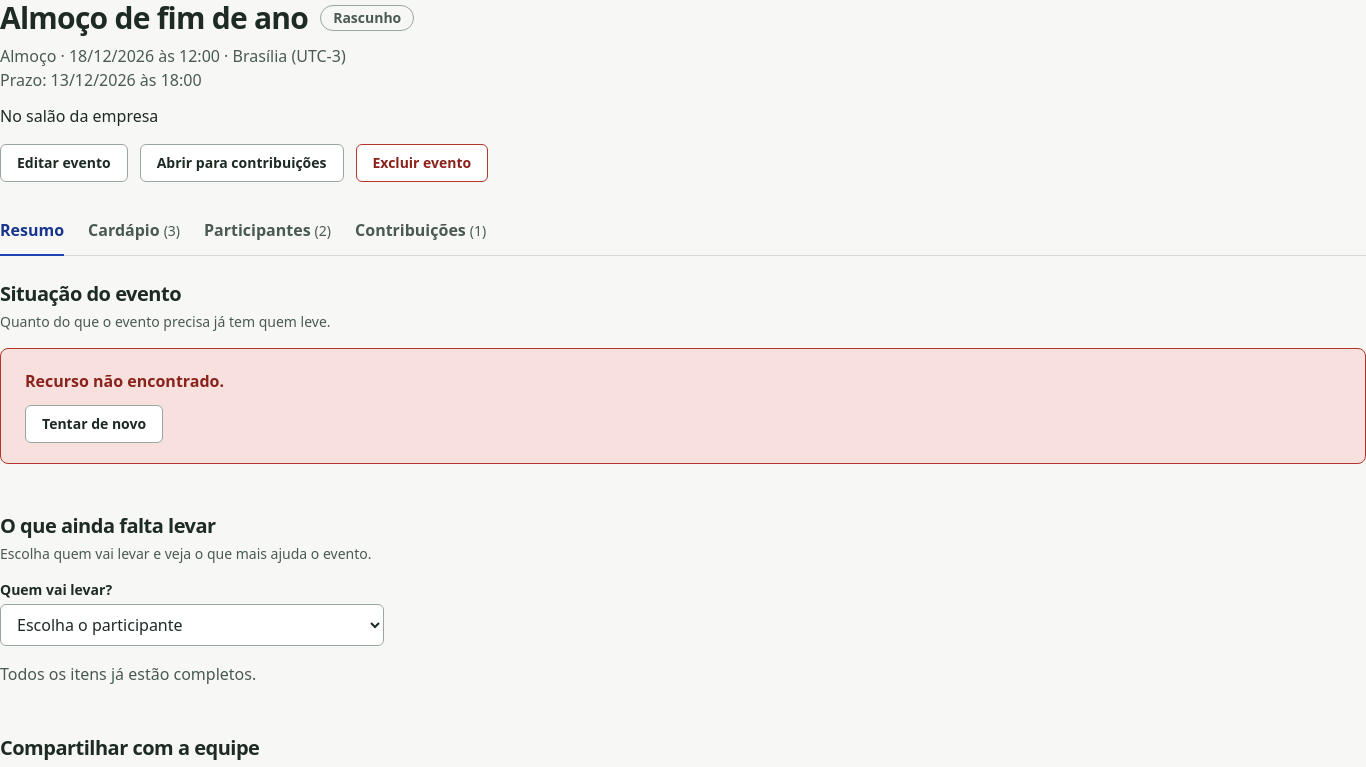
Test: EventPage: edit and delete buttons › does not delete when the person goes back
What coordinates should you click on to do the following:
click the button "Excluir evento"
I would click on:
 (422, 163)
Its box is [356,144,488,182].
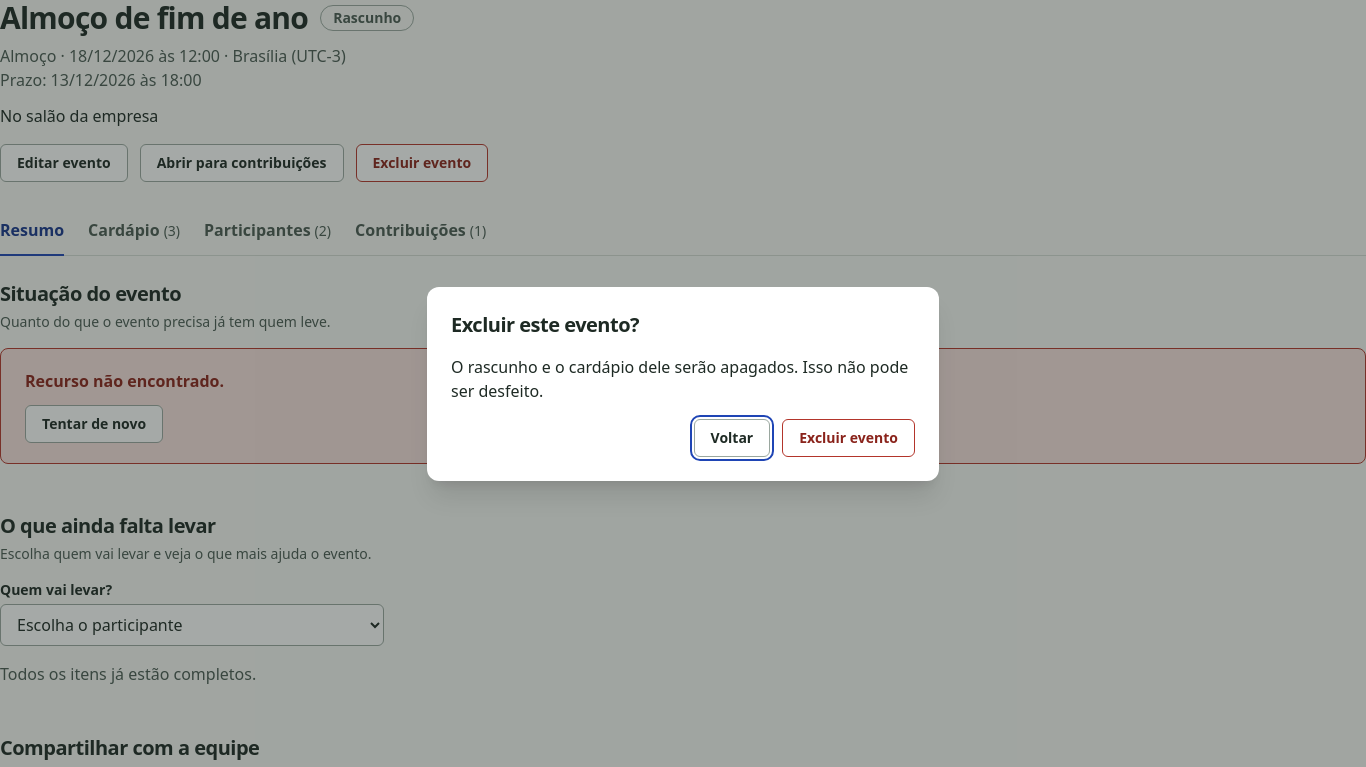
What coordinates should you click on to do the following:
click the button "Voltar"
I would click on:
 (732, 438)
Its box is [694,419,770,457].
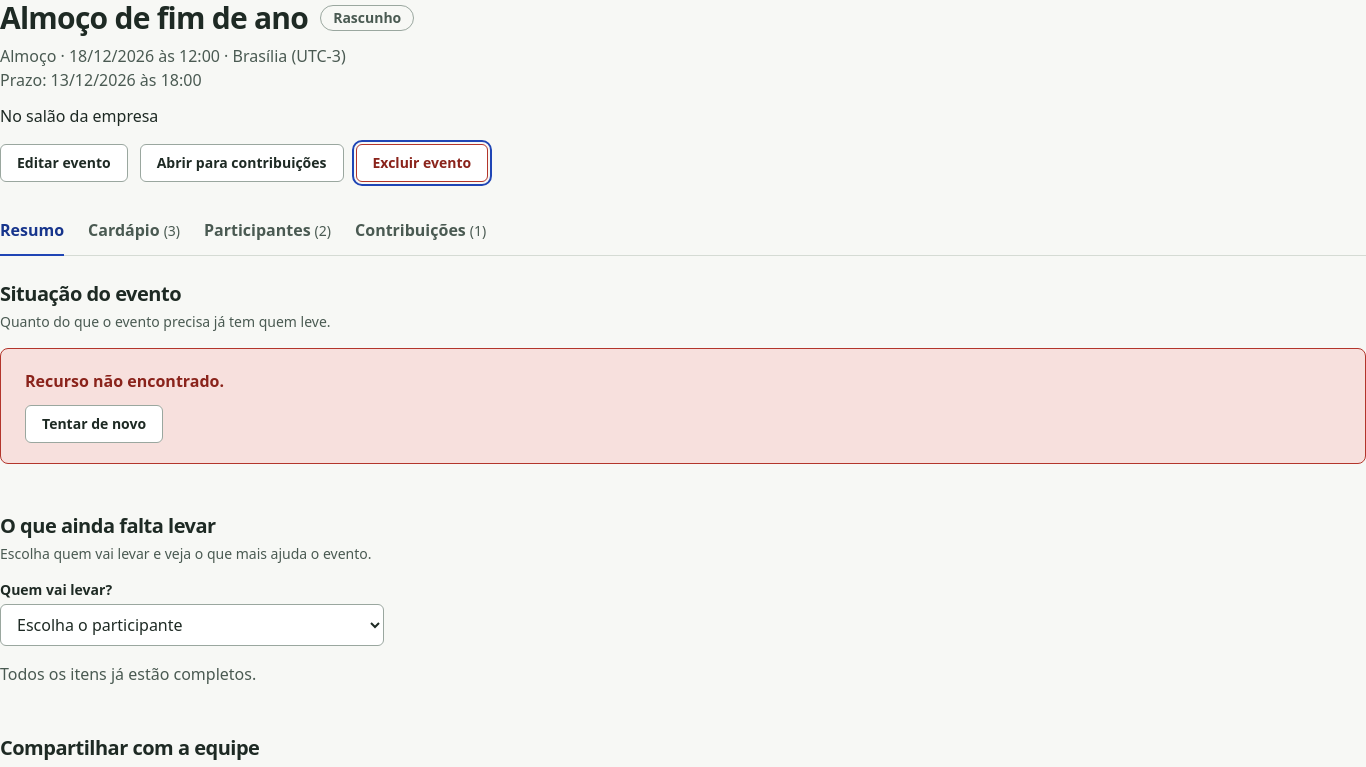
Now the dialog is gone
